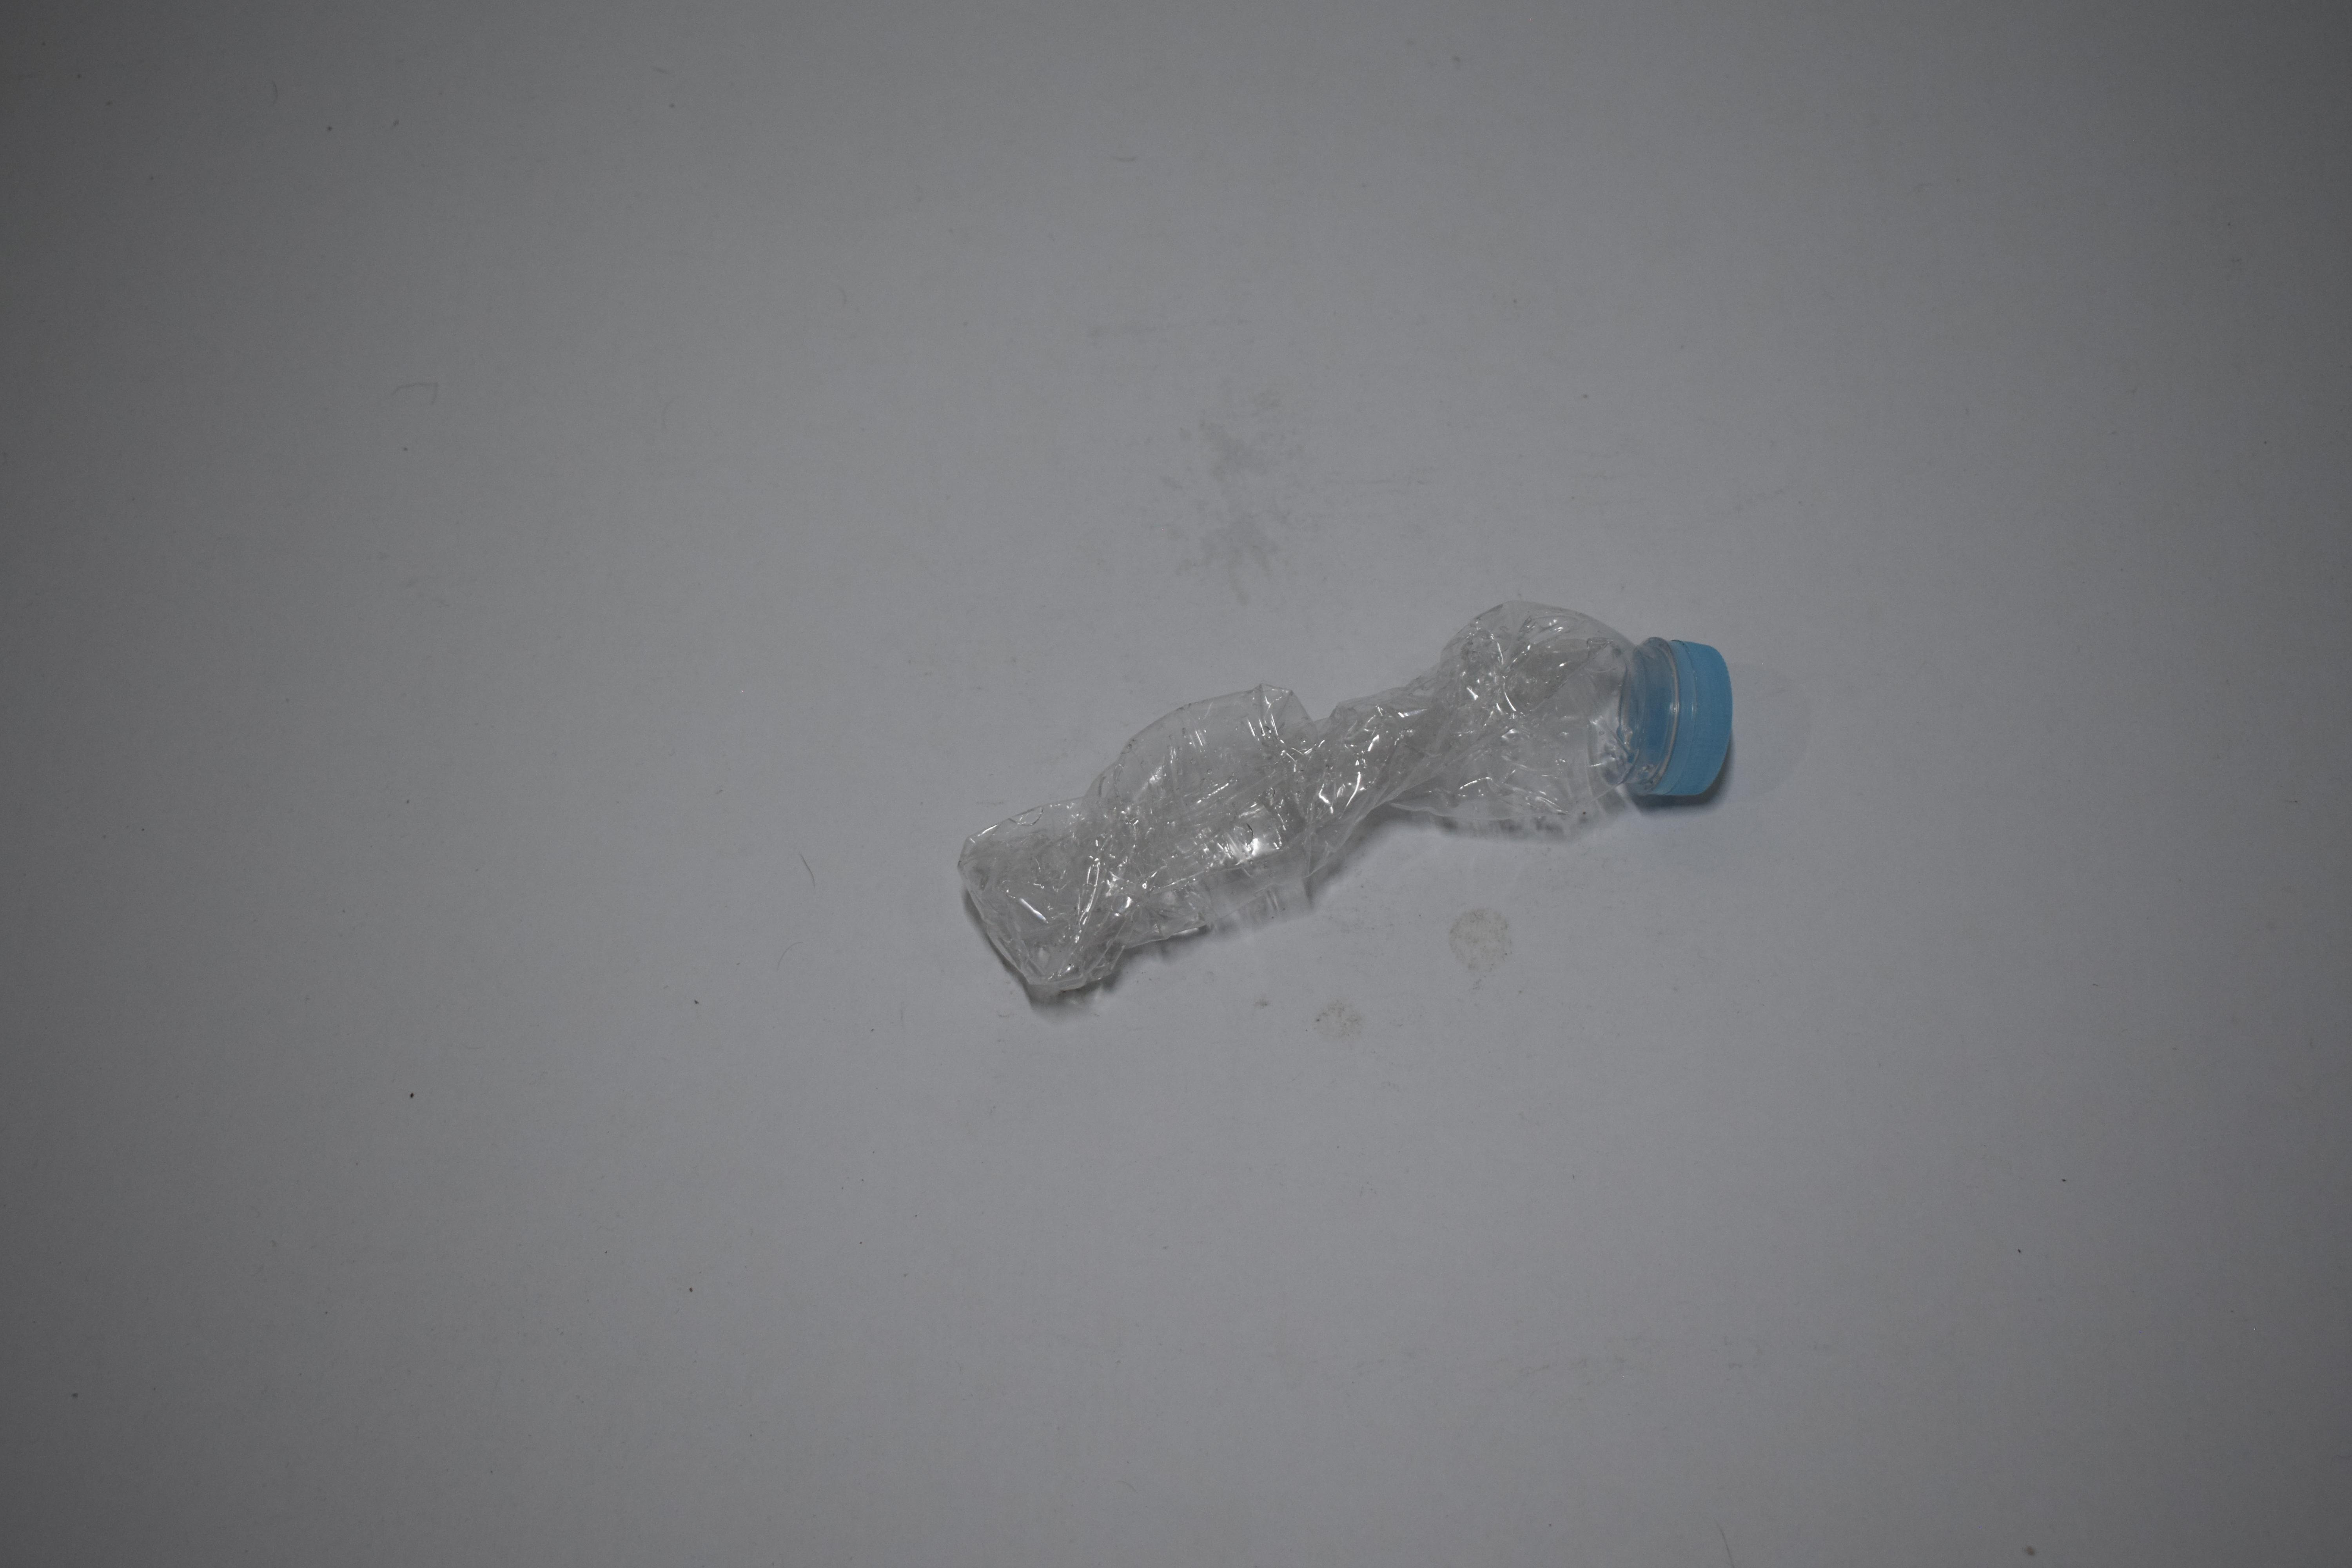bottle: (0, 0, 565, 235)
